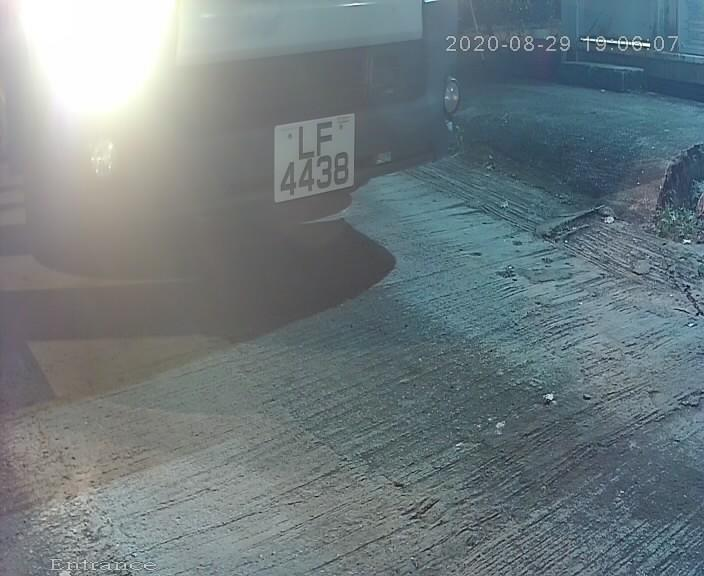License Plate: (255, 101, 368, 214)
